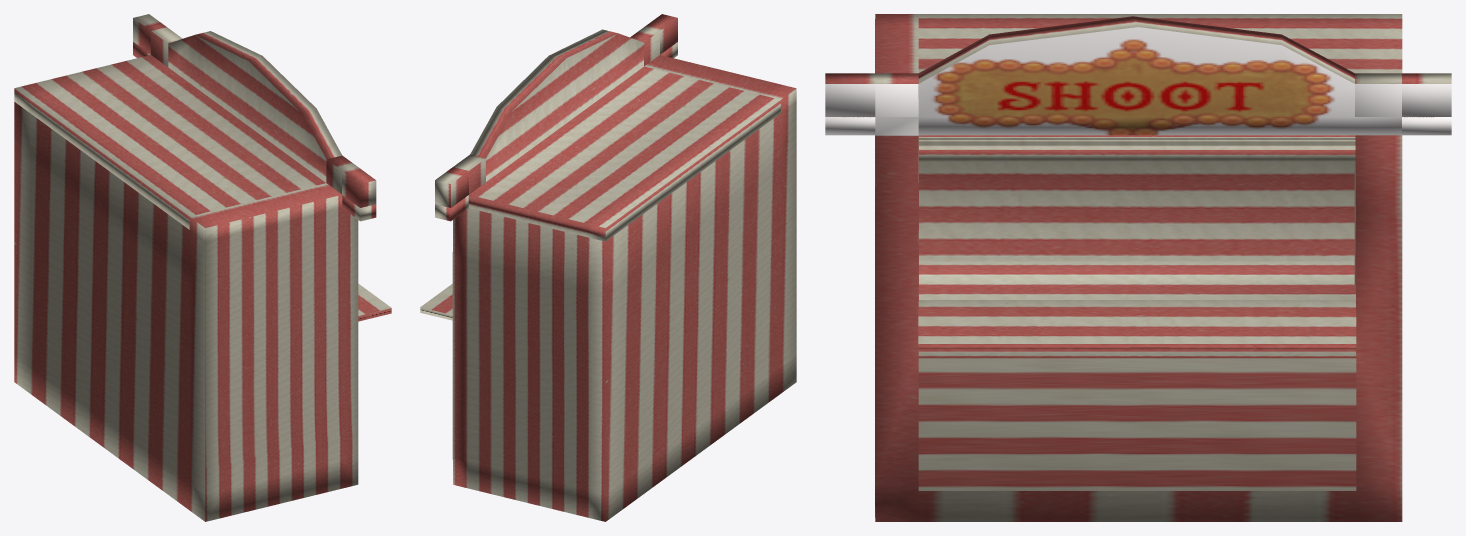
Rendered from Shootbooth.fbx.
The picture shows the model from 3 angles, left to right: view 1: azimuth 30°, elevation 25°; view 2: azimuth 150°, elevation 25°; view 3: azimuth 270°, elevation 25°; orthographic projection. The views are drawn at different scales.
Visible parts, largest first — view 1: ShootboothT; view 2: ShootboothT; view 3: ShootboothT.
Boxes of the visible parts, <box> form: ShootboothT: <box>14,14,391,521</box>; ShootboothT: <box>420,14,796,521</box>; ShootboothT: <box>825,14,1451,521</box>.
Size of the model in its own units: 6.83 by 11.59 by 13.29.
